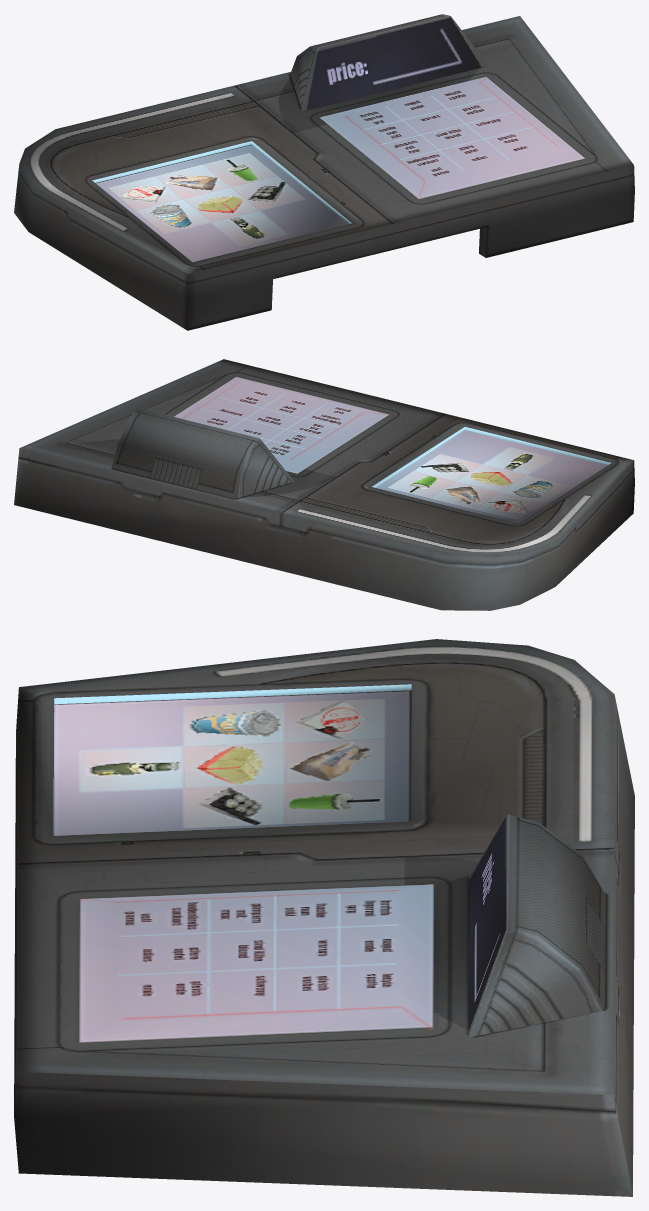
File: bar1.glb
3 renders of one model, top to bottom at view 1: azimuth 30°, elevation 25°; view 2: azimuth 150°, elevation 25°; view 3: azimuth 270°, elevation 25°, orthographic. The views are drawn at different scales.
Visible parts, largest first — view 1: Box03; view 2: Box03; view 3: Box03.
Boxes of the visible parts, x1,y1,x2,y2 form: Box03: [14, 14, 634, 330]; Box03: [14, 359, 634, 610]; Box03: [14, 639, 634, 1196].
Bounding box in the file's own units: 49.32 × 10.31 × 27.88.
1 material, 1 textured.
